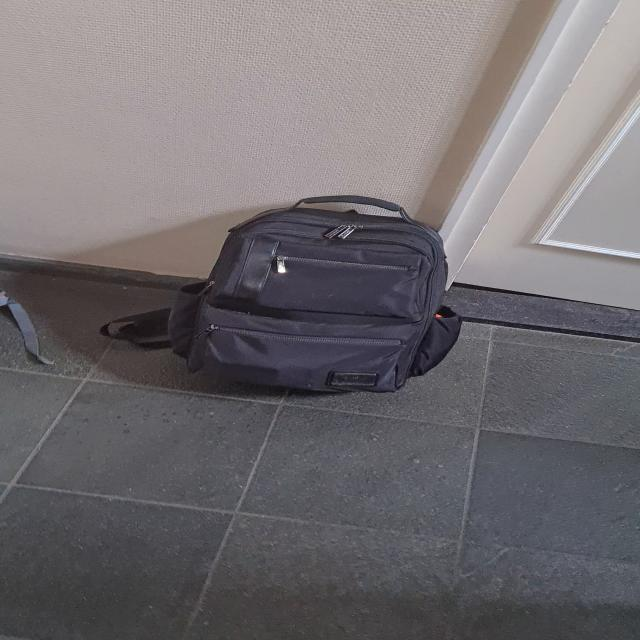backpack: (158, 188, 474, 399)
